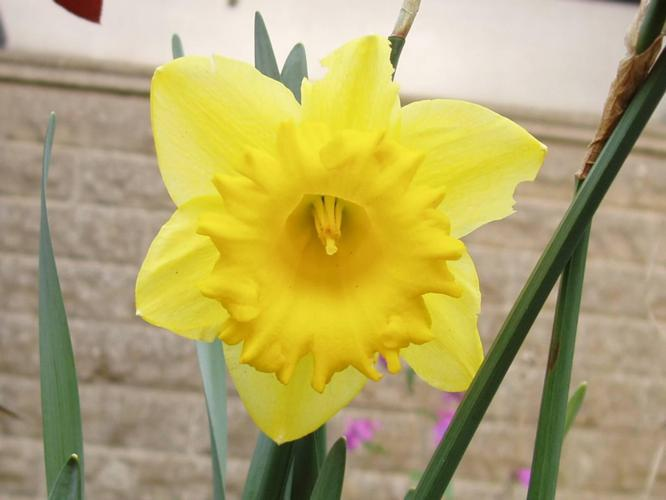flower1: (134, 34, 534, 421)
